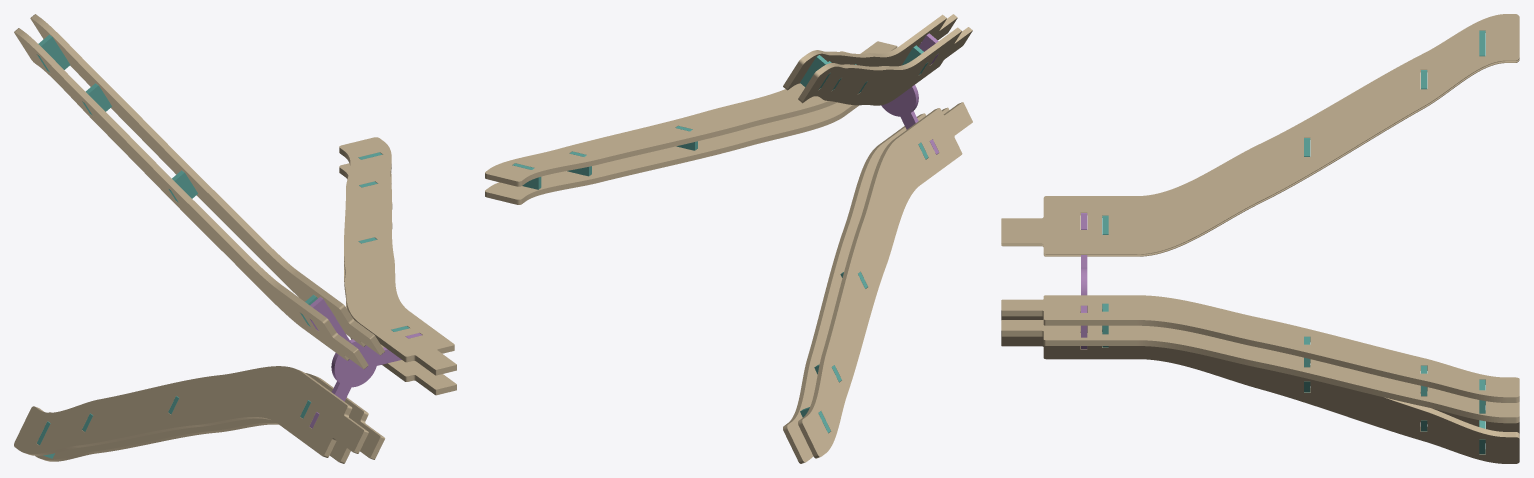
The model's file is three-leg-base-DESIGN_ONLY.glb.
3 renders of one model, left to right at view 1: azimuth 30°, elevation 25°; view 2: azimuth 150°, elevation 25°; view 3: azimuth 270°, elevation 25°, orthographic. The views are drawn at different scales.
Visible parts, largest first — view 1: L3_P01_1, L1_P01_2, L2_P01_2, L2_P01_1, L3_P01_2, P03, L1_P01_1, L2_S1; view 2: L3_P01_1, L1_P01_2, L1_P01_1, L2_P01_2, L3_P01_2, L2_P01_1, P03; view 3: L2_P01_1, L1_P01_2, L3_P01_2, L1_P01_1, L2_P01_2, L3_P01_1, P03.
Part boxes in pixels (box(x1,y1,x2,y2)): L3_P01_1: box(14, 366, 368, 457); L1_P01_2: box(339, 137, 456, 375); L2_P01_2: box(14, 28, 368, 369); L2_P01_1: box(30, 14, 384, 355); L3_P01_2: box(35, 373, 385, 463); P03: box(309, 297, 422, 428); L1_P01_1: box(339, 163, 456, 395); L2_S1: box(37, 34, 70, 72); L3_P01_1: box(798, 102, 972, 458); L1_P01_2: box(485, 41, 897, 186); L1_P01_1: box(485, 102, 858, 204); L2_P01_2: box(798, 27, 972, 105); L3_P01_2: box(783, 107, 949, 463); L2_P01_1: box(783, 14, 957, 90); P03: box(881, 33, 938, 154); L2_P01_1: box(1001, 14, 1519, 254); L1_P01_2: box(1001, 295, 1519, 402); L3_P01_2: box(1001, 330, 1519, 463); L1_P01_1: box(1001, 319, 1519, 423); L2_P01_2: box(1001, 31, 1519, 256); L3_P01_1: box(1001, 309, 1519, 442); P03: box(1081, 213, 1087, 349).
Size of the model in its own units: 0.4047 by 0.4673 by 0.488.
